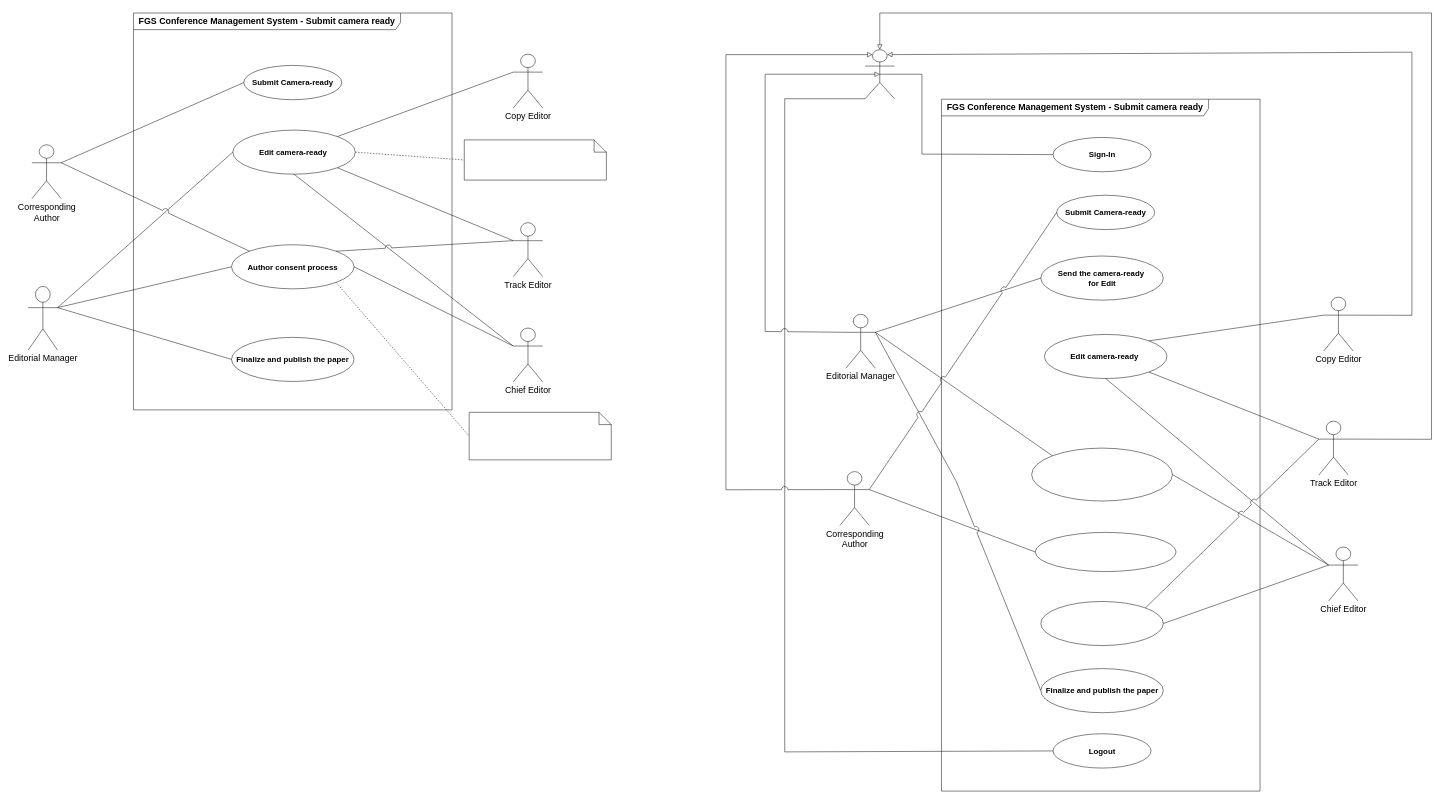
Image size: 1445x800. Some labels were removed from this diagram. Here are the shapes that lost their labels. From the top down, the centre of each, then its label:
the point at 879,74: User
the point at 535,159: This Include Send the camera-ready for Edit
the point at 540,436: This Include request author's final consent, send final consent from author
the point at 1101,474: Send the edited camera-ready to the Author to request their final consent
the point at 1105,552: Send the final consent for edited camera-ready
the point at 1101,623: Give final decision for author's consent
